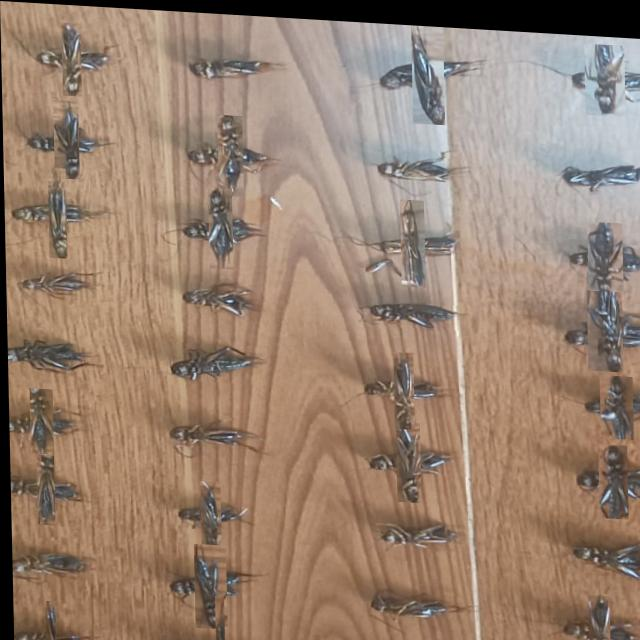no_egg: (412, 19, 445, 119), (170, 343, 258, 378), (587, 282, 621, 364), (585, 36, 624, 107), (587, 214, 622, 292), (192, 540, 224, 625), (569, 535, 640, 570), (6, 340, 87, 370), (363, 298, 457, 323), (182, 280, 255, 312), (369, 587, 459, 612), (596, 437, 626, 510), (400, 195, 425, 281), (598, 368, 632, 431), (217, 111, 243, 193), (54, 98, 79, 177), (561, 157, 640, 182), (395, 416, 419, 497), (208, 185, 232, 265), (376, 518, 455, 542), (169, 422, 255, 444), (189, 55, 280, 75), (377, 151, 456, 173), (48, 166, 66, 257), (10, 551, 83, 573), (17, 271, 86, 294), (28, 387, 52, 452), (393, 346, 412, 424), (62, 21, 81, 94), (199, 477, 219, 546), (35, 454, 53, 523), (586, 587, 607, 640), (213, 592, 222, 640), (43, 599, 53, 640)
